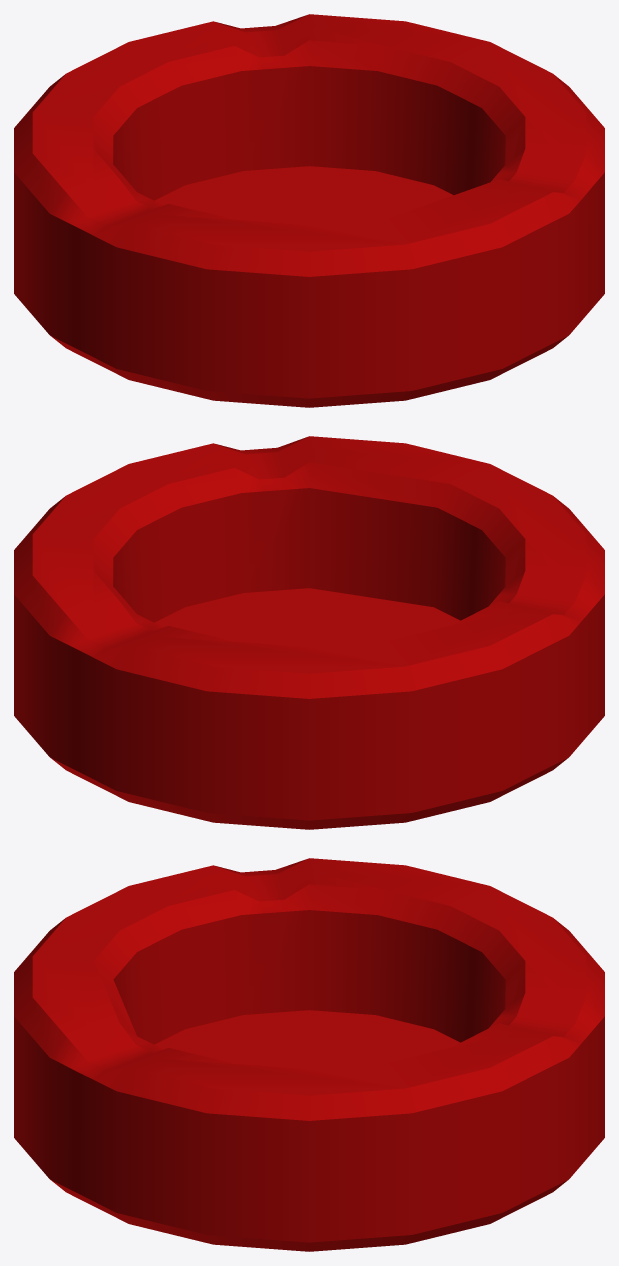
The model's file is Ashtray.FBX.
3 views of the same model, one above another, from view 1: azimuth 30°, elevation 25°; view 2: azimuth 150°, elevation 25°; view 3: azimuth 270°, elevation 25° (orthographic).
Visible parts, largest first — view 1: Cylinder001; view 2: Cylinder001; view 3: Cylinder001.
Part boxes in pixels (x1,y1,x2,y2): Cylinder001: (14,14,604,407); Cylinder001: (14,436,604,829); Cylinder001: (14,858,604,1251).
Bounding box in the file's own units: 94.57 × 27.15 × 93.13.
